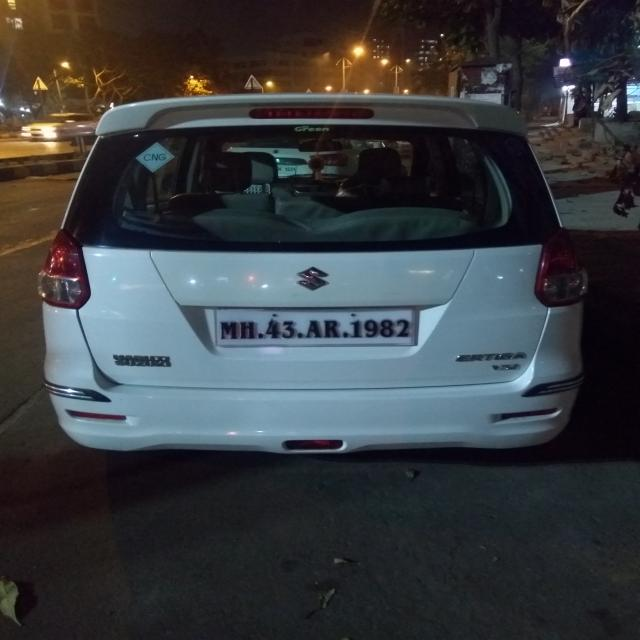Number-Plate: (216, 310, 419, 346)
